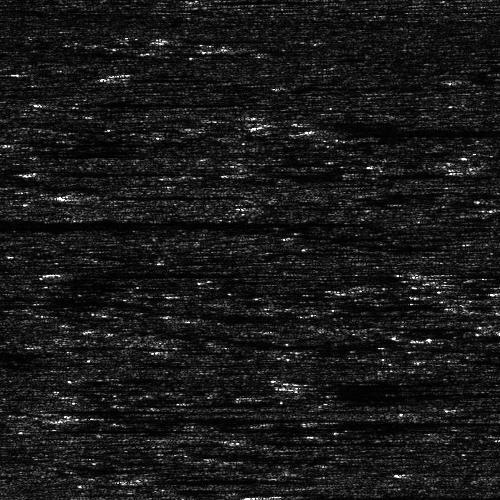object: (253, 373, 358, 396), (0, 165, 92, 178), (406, 163, 500, 172), (91, 475, 184, 484), (301, 124, 364, 137), (36, 413, 119, 422), (236, 491, 319, 500), (52, 189, 125, 198), (35, 268, 98, 275), (0, 99, 81, 104), (486, 75, 500, 94), (144, 37, 185, 42), (420, 271, 461, 276), (89, 73, 130, 78), (220, 172, 261, 175)
shadow: (0, 212, 291, 231), (306, 373, 479, 396), (40, 165, 214, 178), (332, 124, 500, 137), (278, 491, 500, 500), (78, 413, 292, 422), (138, 475, 299, 484), (67, 268, 233, 275), (89, 189, 205, 198), (39, 99, 215, 104), (109, 73, 231, 78), (165, 37, 225, 42), (440, 271, 500, 276), (474, 163, 500, 172), (241, 172, 302, 175)
